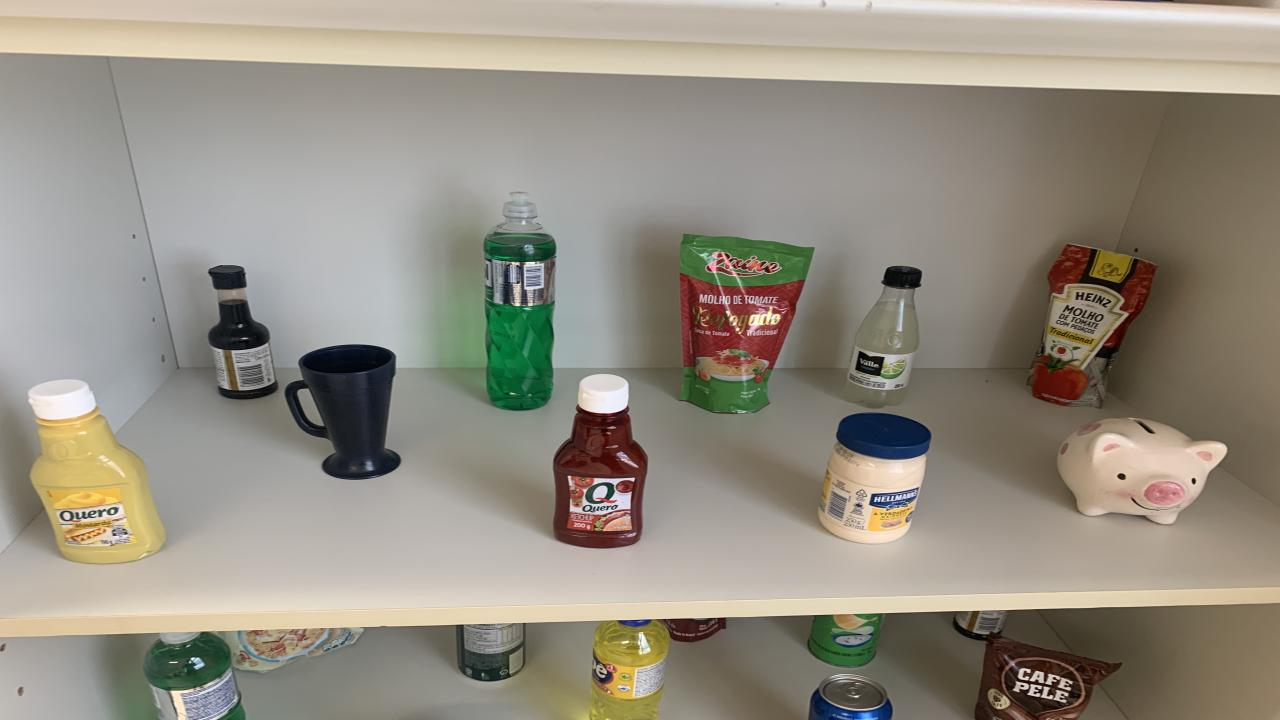Coffee-Pantry_Items: (975, 634, 1120, 720)
Detergent-Cleanup_Items: (485, 193, 555, 411), (142, 632, 245, 720), (590, 619, 670, 720), (590, 621, 670, 720)
English_Sauce-Pantry_Items: (208, 264, 280, 399), (952, 611, 1008, 639)
Flakes-Snacks: (222, 628, 362, 671)
Guarana_Can-Drinks: (455, 622, 525, 682)
Ketchup-Pantry_Items: (552, 375, 648, 548)
Mayonnaise-Pantry_Items: (818, 412, 930, 544)
Mustard-Pantry_Items: (30, 379, 165, 564)
Pringles-Snacks: (1058, 418, 1228, 525), (808, 613, 885, 668)
Soda-Drinks: (843, 266, 923, 408)
Tomato_Sauce-Pantry_Items: (680, 234, 812, 412), (1028, 244, 1158, 407), (662, 617, 725, 643)
Tonic-Drinks: (808, 673, 892, 720)
